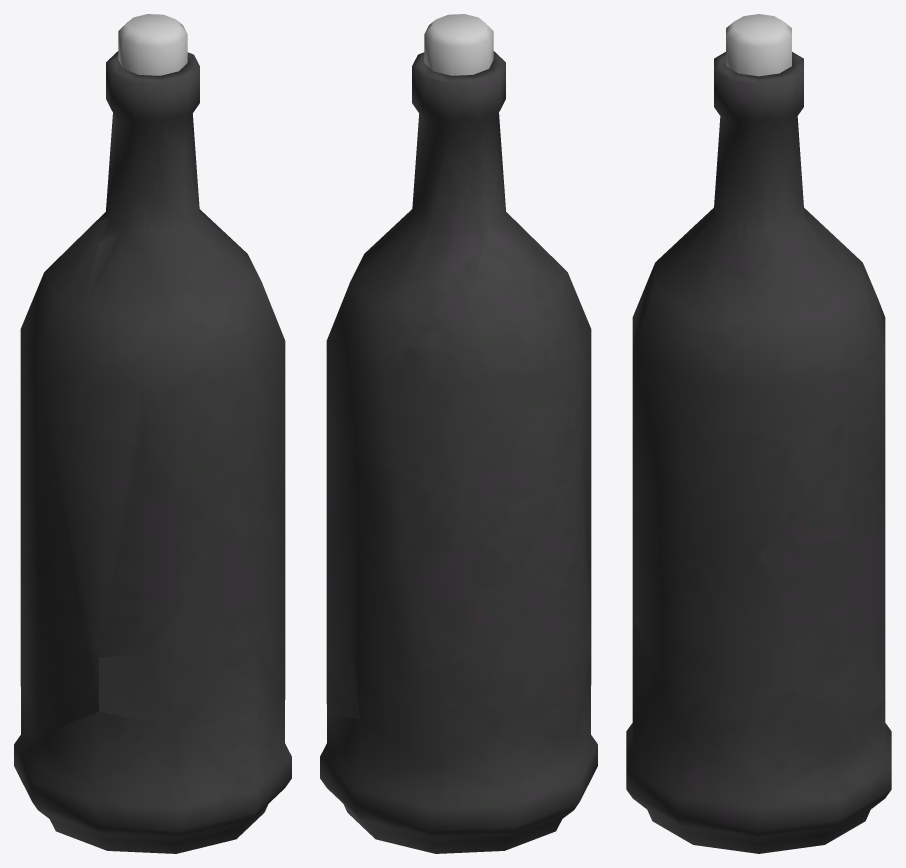
File: amnesia_bottle.dae
The picture shows the model from 3 angles, left to right: view 1: azimuth 30°, elevation 25°; view 2: azimuth 150°, elevation 25°; view 3: azimuth 270°, elevation 25°; orthographic projection.
Visible parts, largest first — view 1: polySurface39, polySurface37, polySurface38, polySurface40, polySurface4, pCylinder1; view 2: polySurface39, polySurface38, polySurface37, polySurface4, pCylinder1, polySurface40; view 3: polySurface37, polySurface40, polySurface38, polySurface39, polySurface4, pCylinder1.
Boxes of the visible parts, x1=… form: polySurface39: x1=20, y1=218, x2=215, y2=735; polySurface37: x1=83, y1=150, x2=285, y2=517; polySurface38: x1=14, y1=638, x2=291, y2=853; polySurface40: x1=99, y1=477, x2=285, y2=729; polySurface4: x1=94, y1=51, x2=199, y2=241; pCylinder1: x1=118, y1=14, x2=187, y2=75; polySurface39: x1=326, y1=228, x2=591, y2=764; polySurface38: x1=320, y1=654, x2=597, y2=853; polySurface37: x1=326, y1=165, x2=578, y2=454; polySurface4: x1=412, y1=51, x2=512, y2=277; pCylinder1: x1=424, y1=14, x2=493, y2=75; polySurface40: x1=326, y1=631, x2=360, y2=718; polySurface37: x1=632, y1=144, x2=885, y2=557; polySurface40: x1=632, y1=484, x2=884, y2=753; polySurface38: x1=626, y1=617, x2=891, y2=853; polySurface39: x1=759, y1=298, x2=885, y2=697; polySurface4: x1=714, y1=52, x2=832, y2=234; pCylinder1: x1=726, y1=14, x2=791, y2=76.
Size of the model in its own units: 0.1174 by 0.3632 by 0.1117.
